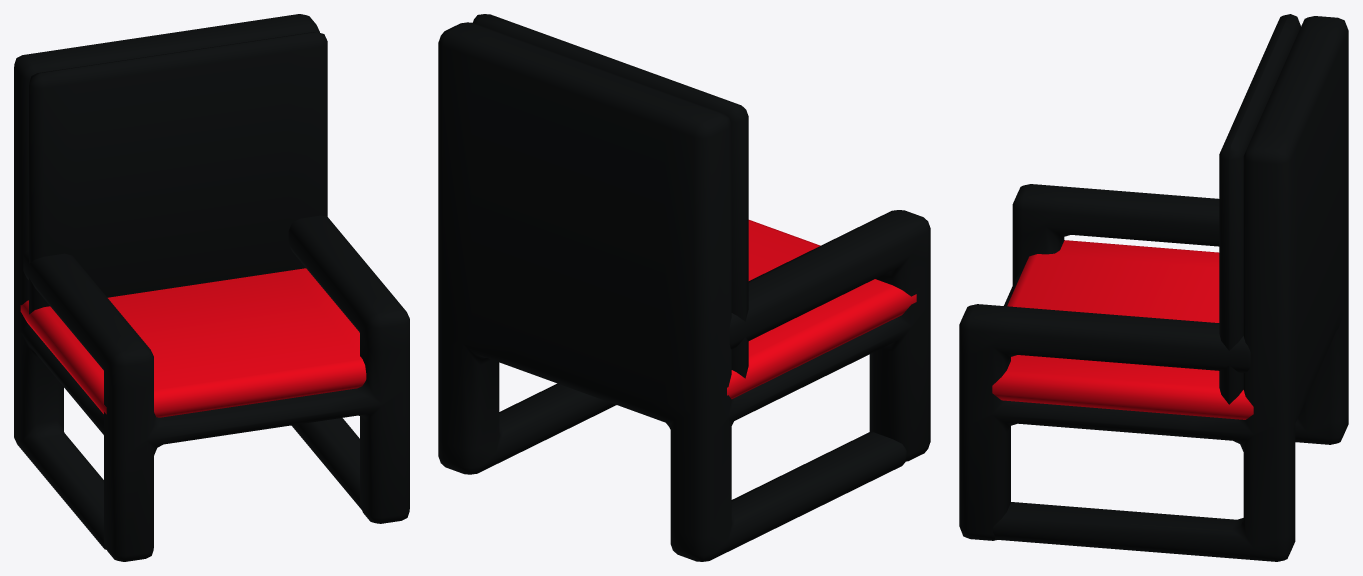
Rendered from chair.fbx.
3 views of the same model, side by side, from view 1: azimuth 30°, elevation 25°; view 2: azimuth 150°, elevation 25°; view 3: azimuth 270°, elevation 25° (orthographic). The views are drawn at different scales.
Parts seen in each view (by area): view 1: Plane.028; view 2: Plane.028; view 3: Plane.028.
Part boxes in pixels (x1,y1,x2,y2): Plane.028: (14, 14, 409, 561); Plane.028: (438, 14, 930, 561); Plane.028: (959, 14, 1348, 561).
Bounding box in the file's own units: 119 × 141 × 119.
